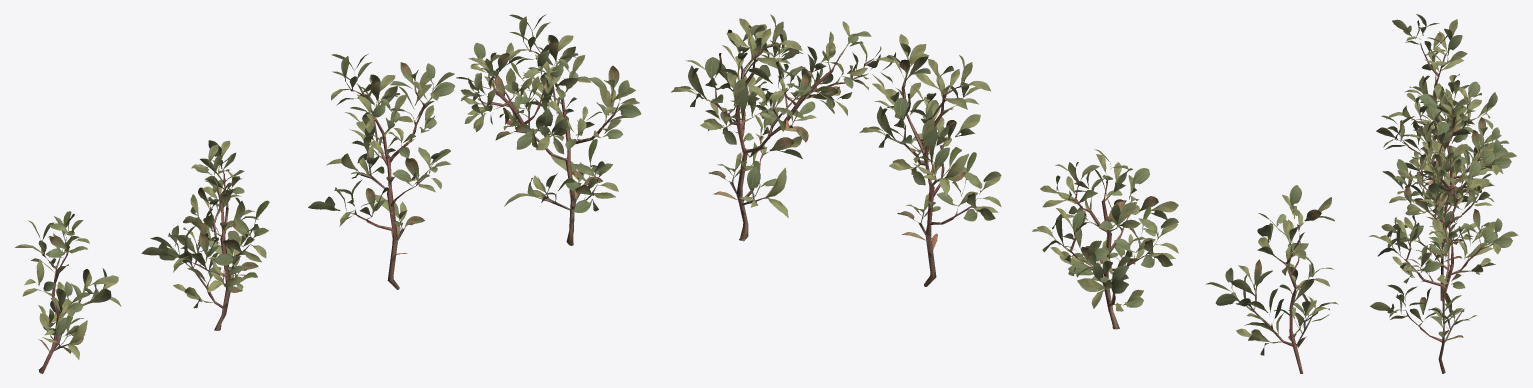
Rendered from shrub_04.glb.
The picture shows the model from 3 angles, left to right: view 1: azimuth 30°, elevation 25°; view 2: azimuth 150°, elevation 25°; view 3: azimuth 270°, elevation 25°; orthographic projection. The views are drawn at different scales.
Parts seen in each view (by area): view 1: shrub_04; view 2: shrub_04; view 3: shrub_04.
Part boxes in pixels (x1,y1,x2,y2): shrub_04: (15, 14, 641, 373); shrub_04: (671, 14, 1338, 373); shrub_04: (1369, 14, 1518, 373).
Size of the model in its own units: 0.5837 by 0.2192 by 0.1461.
1 material, 1 textured.
